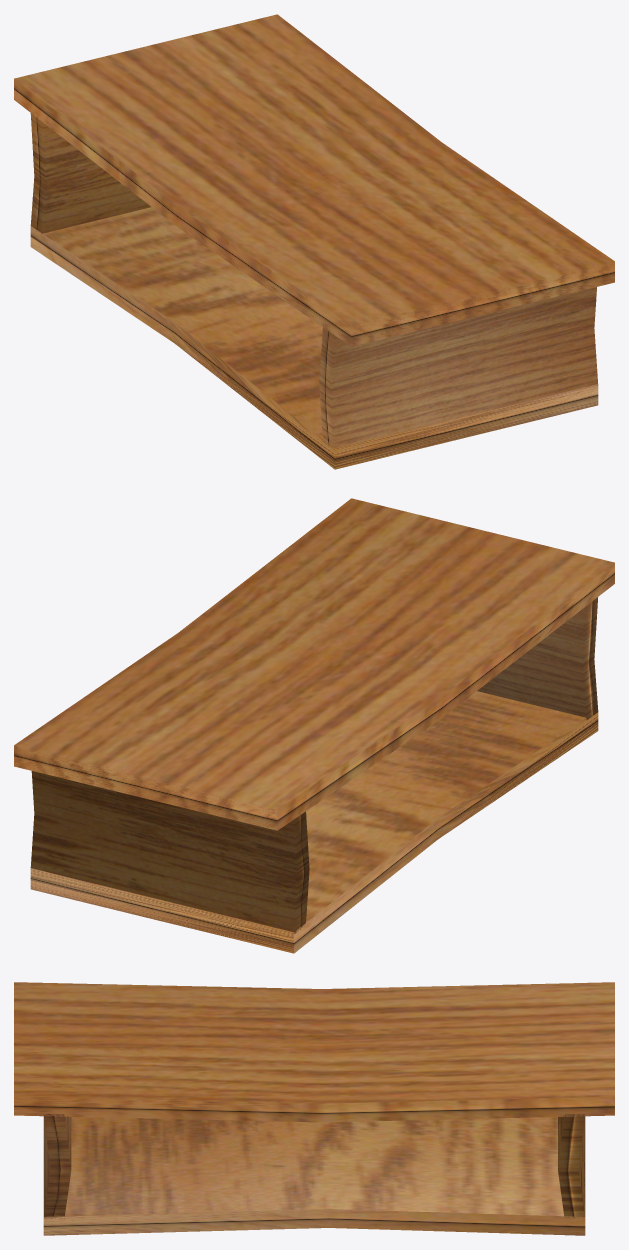
File: tvTable.fbx
3 views of the same model, one above another, from view 1: azimuth 30°, elevation 25°; view 2: azimuth 150°, elevation 25°; view 3: azimuth 270°, elevation 25° (orthographic). The views are drawn at different scales.
Parts seen in each view (by area): view 1: tv_table; view 2: tv_table; view 3: tv_table.
Part boxes in pixels (left/top/right/bottom): tv_table: left=14, top=14, right=614, bottom=469; tv_table: left=14, top=498, right=614, bottom=953; tv_table: left=14, top=982, right=614, bottom=1235.
Bounding box in the file's own units: 100 × 56.63 × 222.
